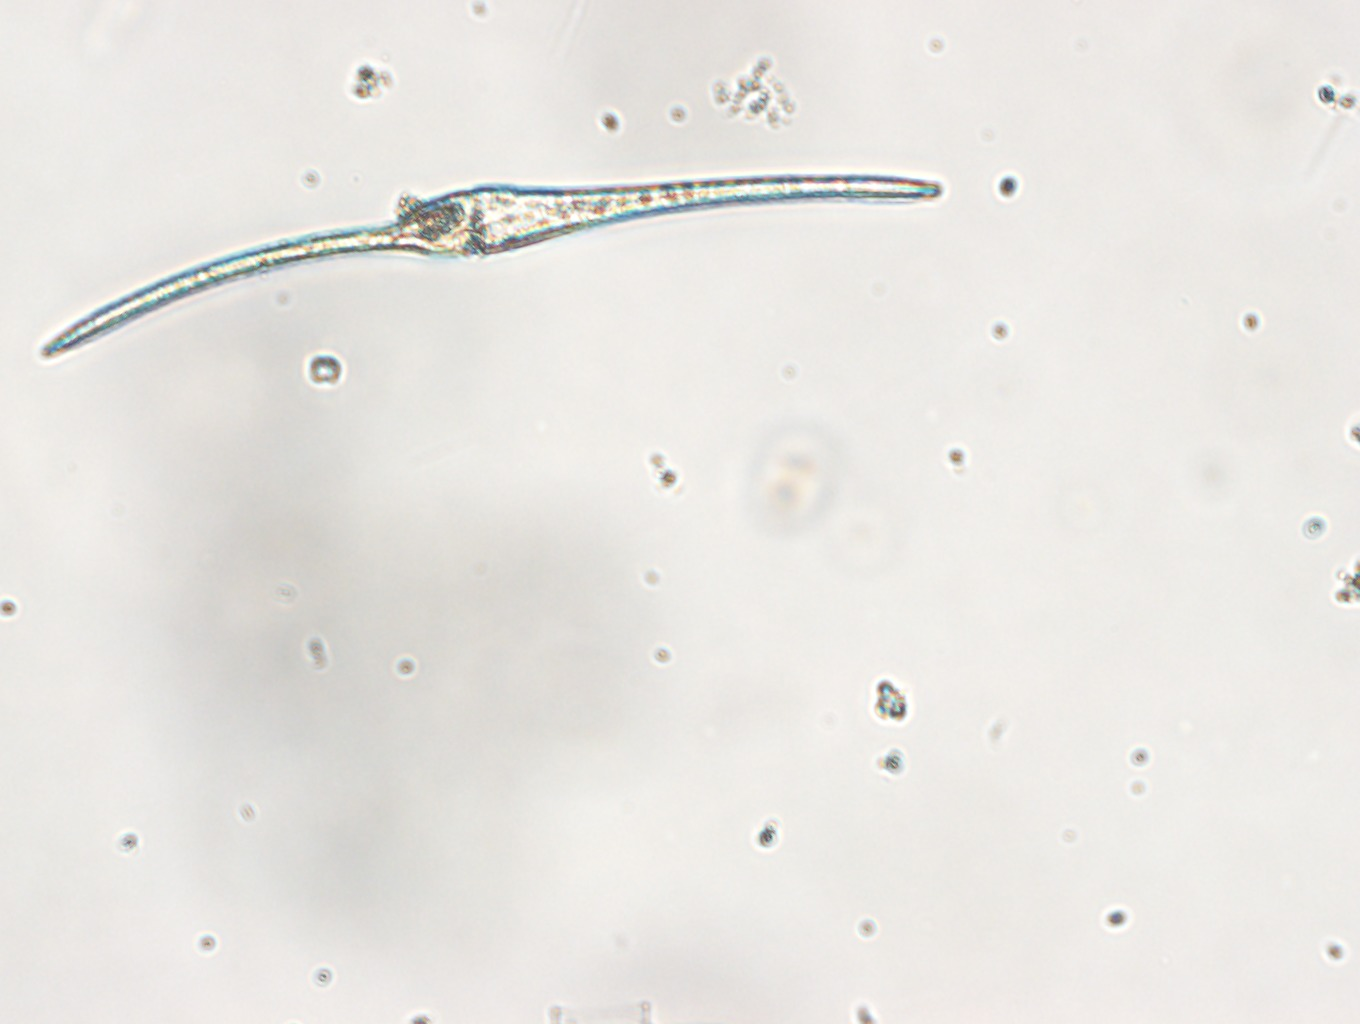ceratium fusus: (38, 175, 944, 362)
